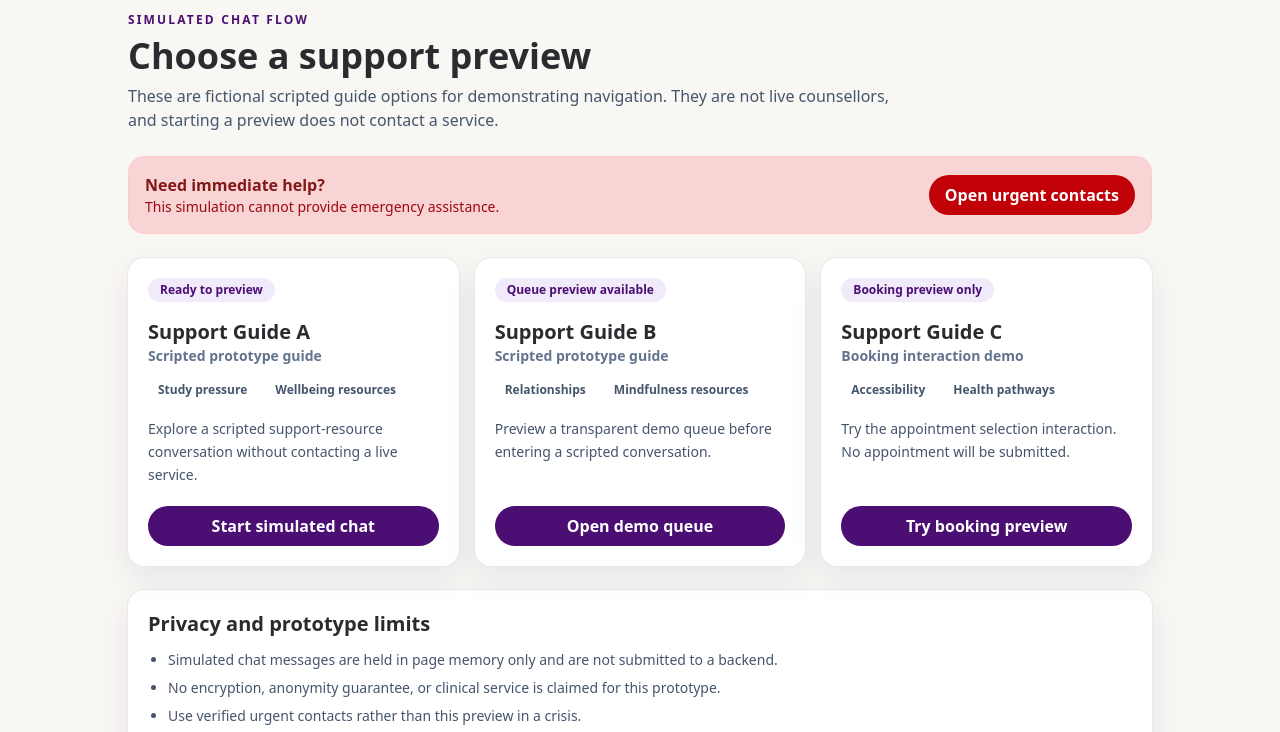
ProfessionalSelectionPage › carries the selected guide into chat
Step 1. Click the button "Start simulated chat" → [293, 526], box [148,506,439,546]
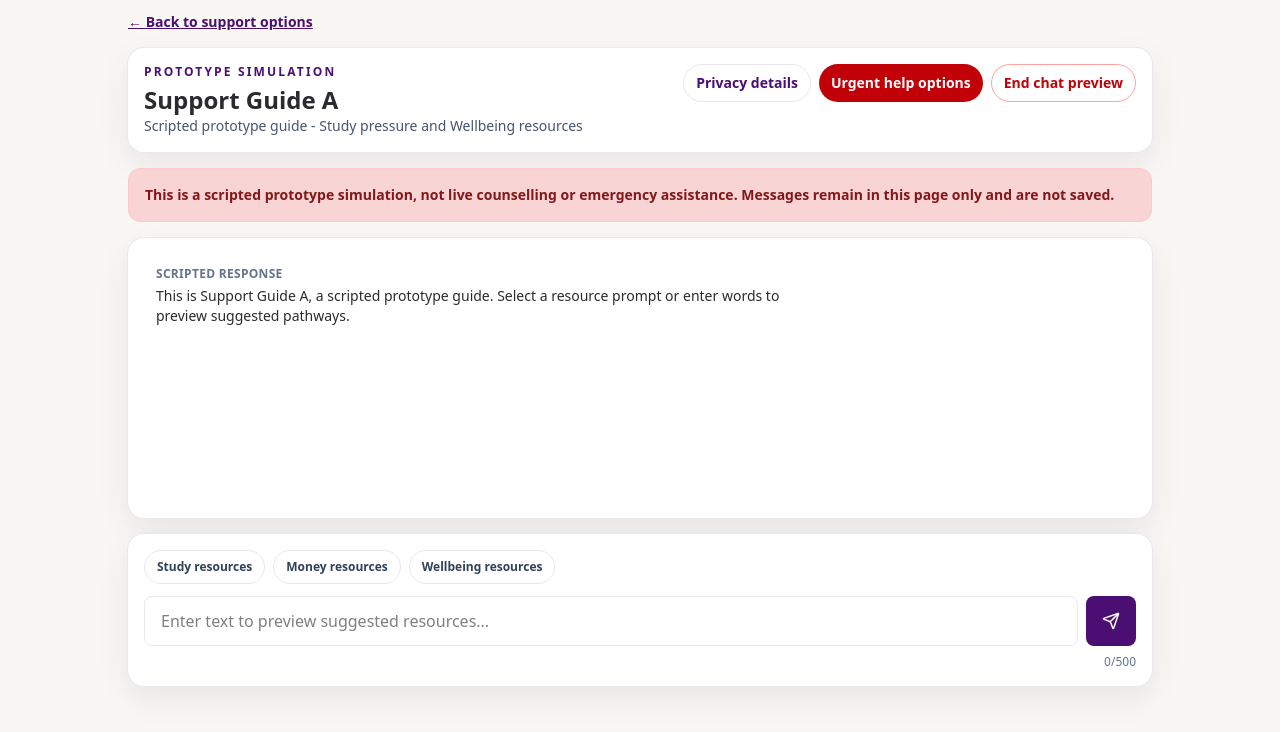
Expected: the heading "Support Guide A" is shown, [144,83,338,116]
Expected: the text "scripted prototype simulation" is shown, [145,185,1114,204]
